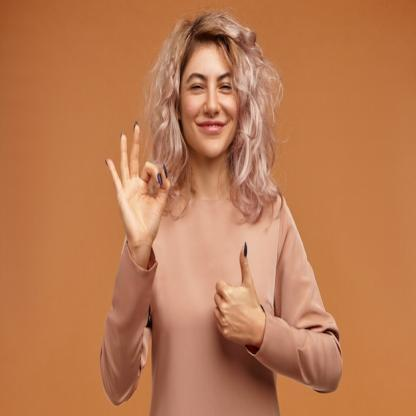ok: (102, 118, 173, 250)
thumb_up: (211, 238, 263, 351)
